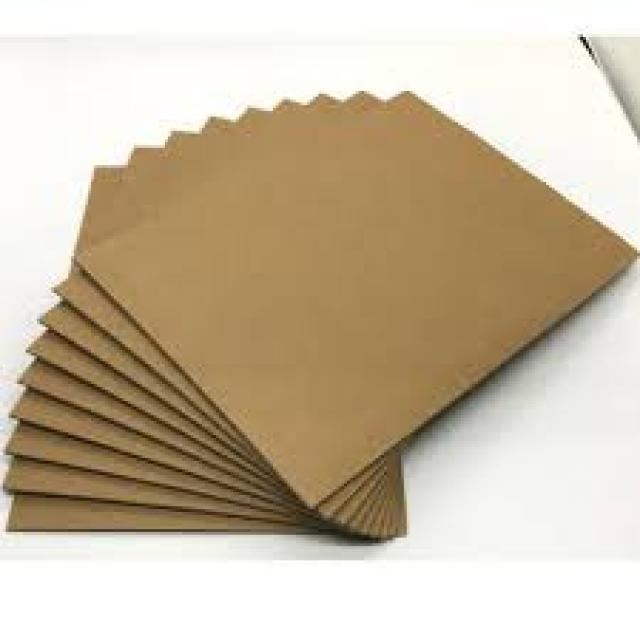Cardboard: (69, 93, 635, 502)
